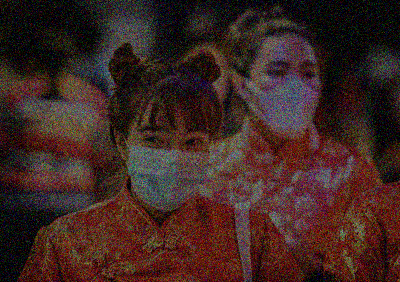with_mask: (124, 114, 209, 212), (248, 52, 324, 140)
